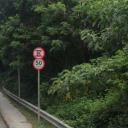speed_limit_50: (34, 59, 44, 70)
